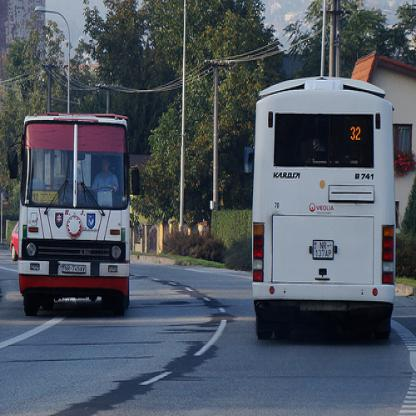bus: (249, 73, 399, 336), (16, 114, 131, 324)
car: (10, 215, 20, 263)
